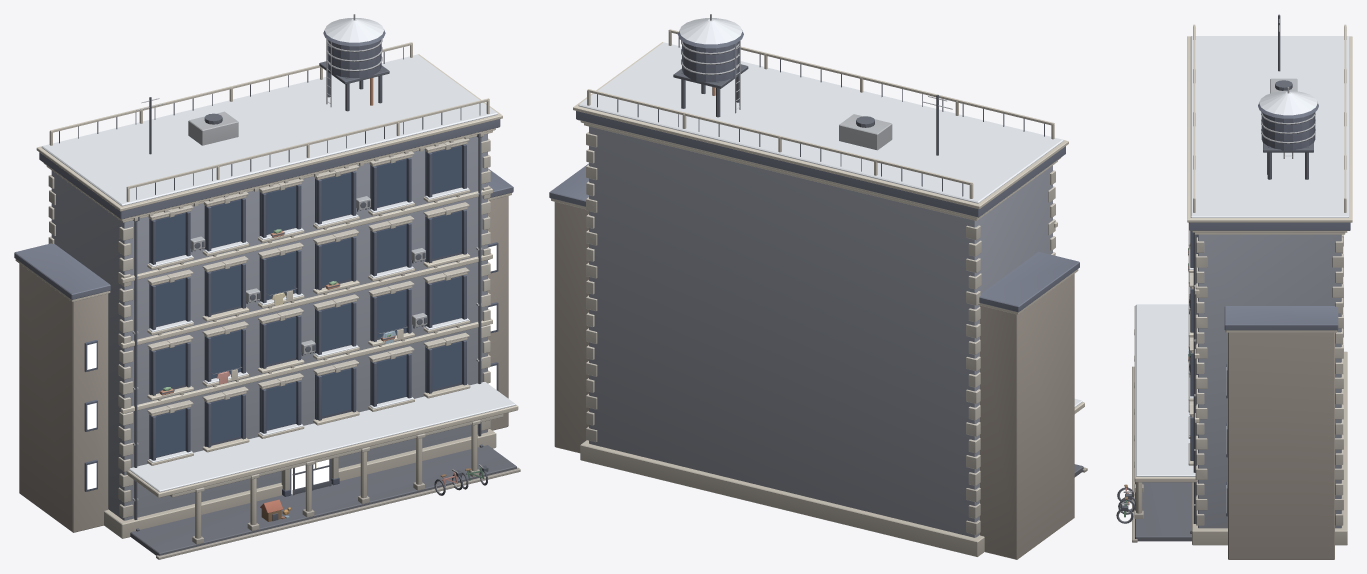
Rendered from dorm_university.glb.
The picture shows the model from 3 angles, left to right: view 1: azimuth 30°, elevation 25°; view 2: azimuth 150°, elevation 25°; view 3: azimuth 270°, elevation 25°; orthographic projection. The views are drawn at different scales.
Visible parts, largest first — view 1: Season_Snow_Merged_Mat_Snow_Cap, Dorm_Body, Static_Merged_Mat_Trim_Cream, Static_Merged_Mat_Wall_Wing, Static_Merged_Mat_Frame_Dark, Static_Merged_Mat_Stone_Trim, Corridor_Floor, Static_Merged_Mat_Roof_Slate, Static_Merged_Mat_Metal_Dark, Static_Merged_Mat_Metal_Light, Window_Glass_1_2, Window_Glass_0_2 (+24 smaller); view 2: Dorm_Body, Static_Merged_Mat_Wall_Wing, Season_Snow_Merged_Mat_Snow_Cap, Static_Merged_Mat_Trim_Cream, Static_Merged_Mat_Roof_Slate, Static_Merged_Mat_Stone_Trim, Static_Merged_Mat_Metal_Light, Static_Merged_Mat_Metal_Dark; view 3: Season_Snow_Merged_Mat_Snow_Cap, Static_Merged_Mat_Wall_Wing, Dorm_Body, Static_Merged_Mat_Trim_Cream, Static_Merged_Mat_Roof_Slate, Static_Merged_Mat_Stone_Trim, Corridor_Floor, Static_Merged_Mat_Metal_Dark, Static_Merged_Mat_Metal_Light, Static_Merged_Mat_Frame_Dark.
Boxes of the visible parts, <box> form: Season_Snow_Merged_Mat_Snow_Cap: <box>41,18,515,492</box>; Dorm_Body: <box>51,134,487,520</box>; Static_Merged_Mat_Trim_Cream: <box>15,42,518,538</box>; Static_Merged_Mat_Wall_Wing: <box>19,196,508,532</box>; Static_Merged_Mat_Frame_Dark: <box>84,144,498,496</box>; Static_Merged_Mat_Stone_Trim: <box>48,132,520,559</box>; Corridor_Floor: <box>130,445,516,555</box>; Static_Merged_Mat_Roof_Slate: <box>14,30,513,299</box>; Static_Merged_Mat_Metal_Dark: <box>59,47,488,531</box>; Static_Merged_Mat_Metal_Light: <box>132,14,485,501</box>; Window_Glass_1_2: <box>266,317,296,364</box>; Window_Glass_0_2: <box>266,382,296,429</box>; Dorm_Body: <box>589,126,1052,537</box>; Static_Merged_Mat_Wall_Wing: <box>554,202,1074,559</box>; Season_Snow_Merged_Mat_Snow_Cap: <box>578,18,1082,407</box>; Static_Merged_Mat_Trim_Cream: <box>551,29,1084,556</box>; Static_Merged_Mat_Roof_Slate: <box>549,30,1079,312</box>; Static_Merged_Mat_Stone_Trim: <box>586,132,1087,534</box>; Static_Merged_Mat_Metal_Light: <box>681,14,952,150</box>; Static_Merged_Mat_Metal_Dark: <box>597,37,1044,196</box>; Season_Snow_Merged_Mat_Snow_Cap: <box>1136,36,1348,476</box>; Static_Merged_Mat_Wall_Wing: <box>1228,332,1334,559</box>; Dorm_Body: <box>1198,234,1341,528</box>; Static_Merged_Mat_Trim_Cream: <box>1134,24,1352,545</box>; Static_Merged_Mat_Roof_Slate: <box>1189,102,1350,330</box>; Static_Merged_Mat_Stone_Trim: <box>1132,234,1343,542</box>; Corridor_Floor: <box>1135,482,1191,541</box>; Static_Merged_Mat_Metal_Dark: <box>1116,15,1313,533</box>; Static_Merged_Mat_Metal_Light: <box>1118,14,1315,521</box>; Static_Merged_Mat_Frame_Dark: <box>1190,231,1227,516</box>.
Size of the model in its own units: 21.61 by 19.67 by 10.17.
